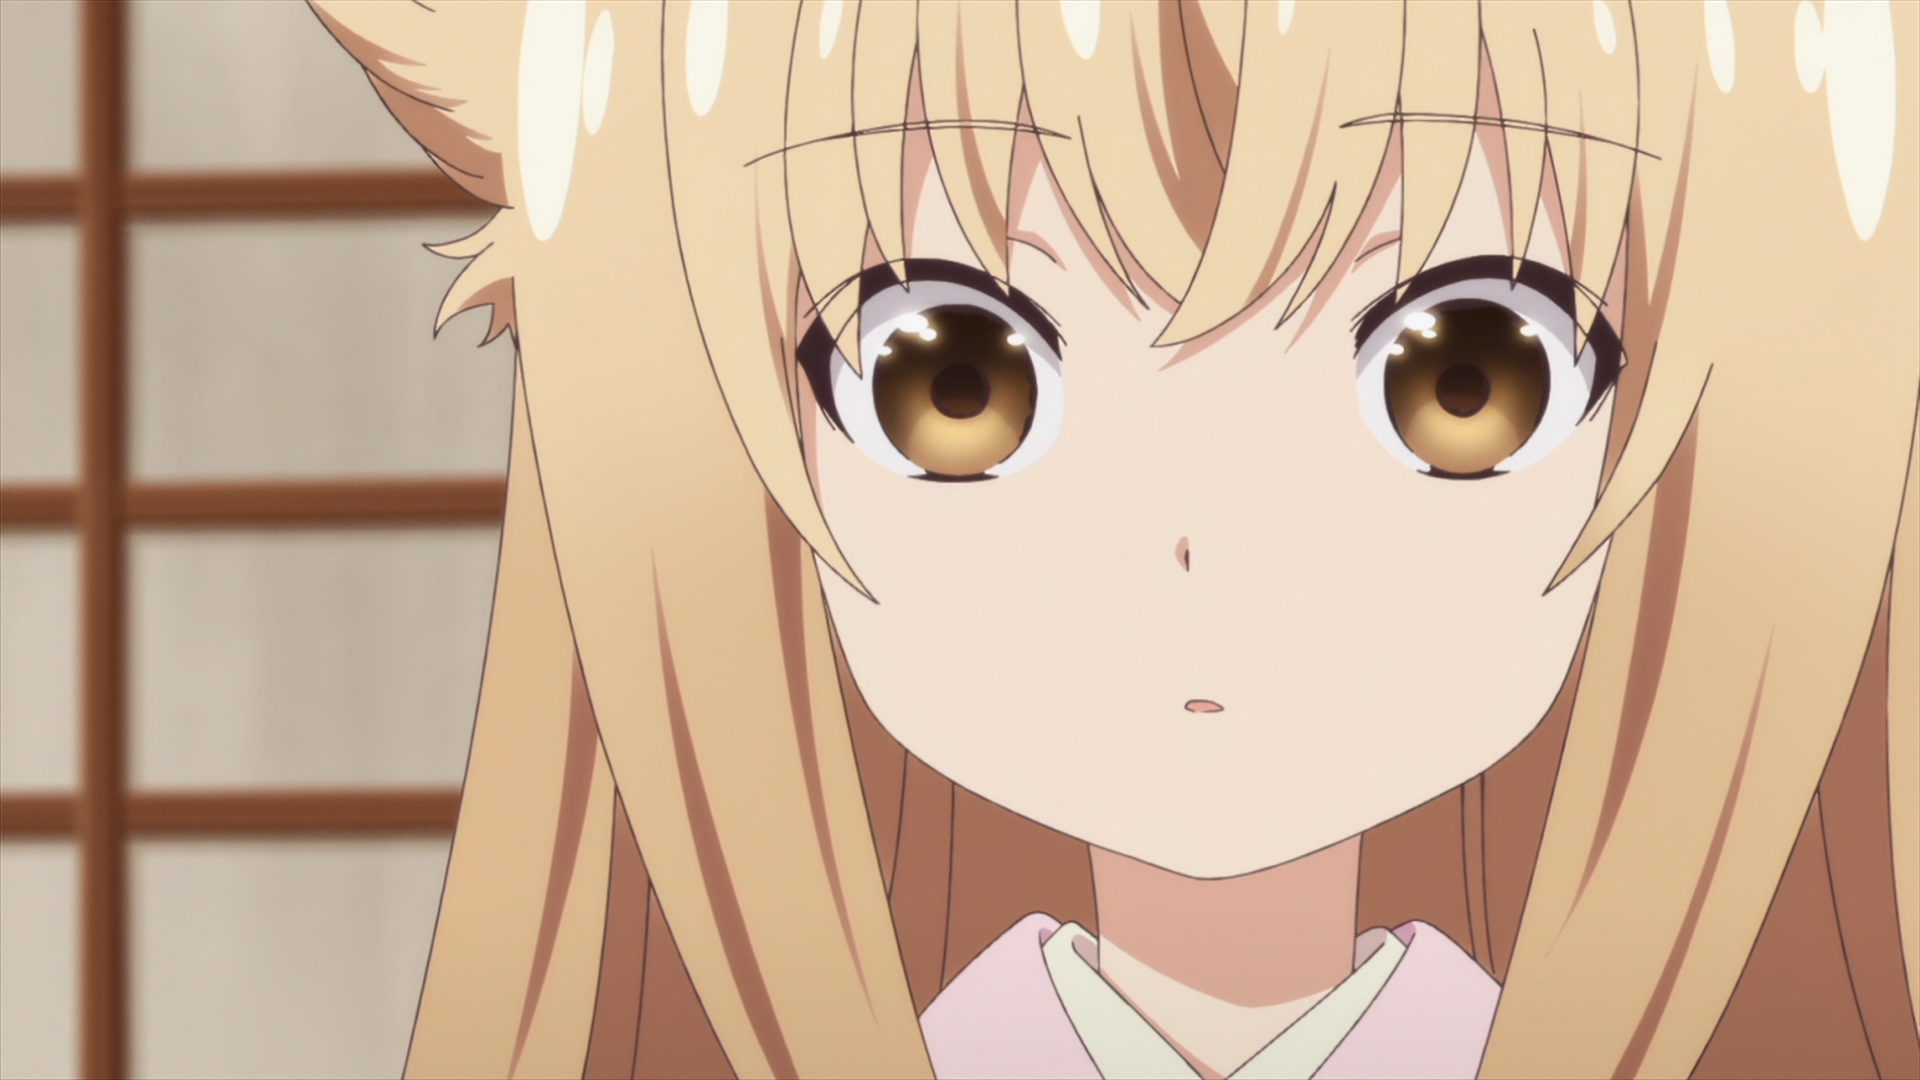柚: (306, 1, 1920, 1080)
